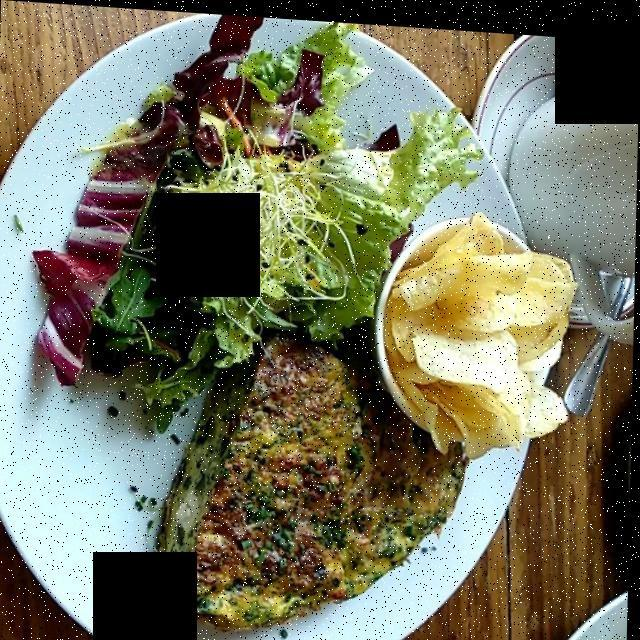crisps: (389, 212, 572, 442)
salad: (42, 30, 484, 381)
sprouts: (123, 113, 361, 330)
